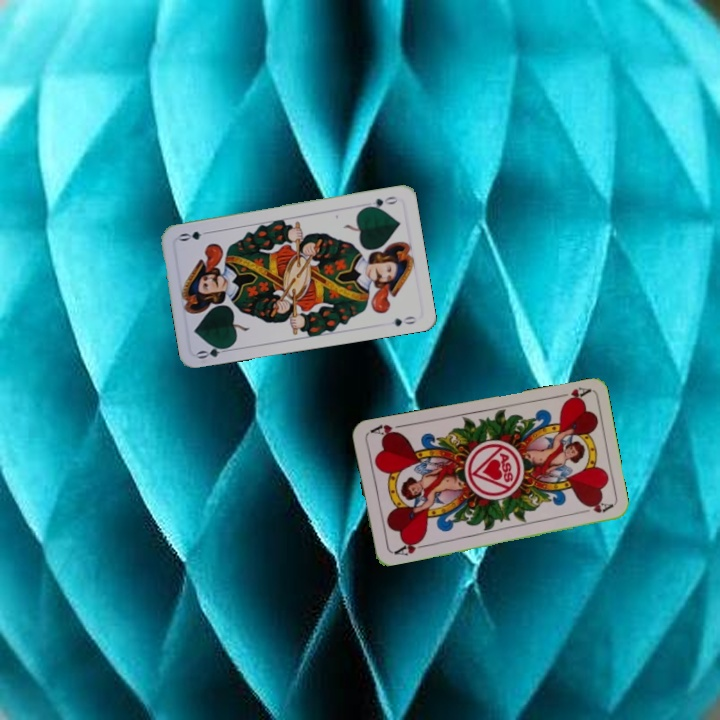GO: (193, 341, 234, 361), (361, 192, 400, 212)
HA: (388, 535, 429, 558), (551, 383, 592, 406)
